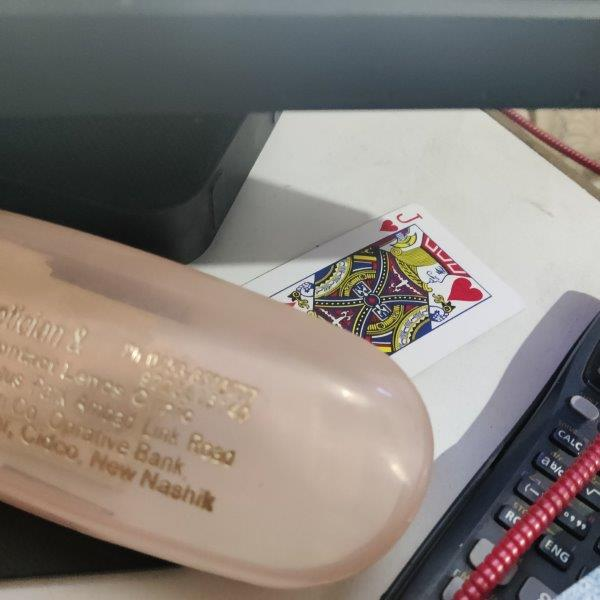Jack of Hearts: (242, 204, 525, 380)
